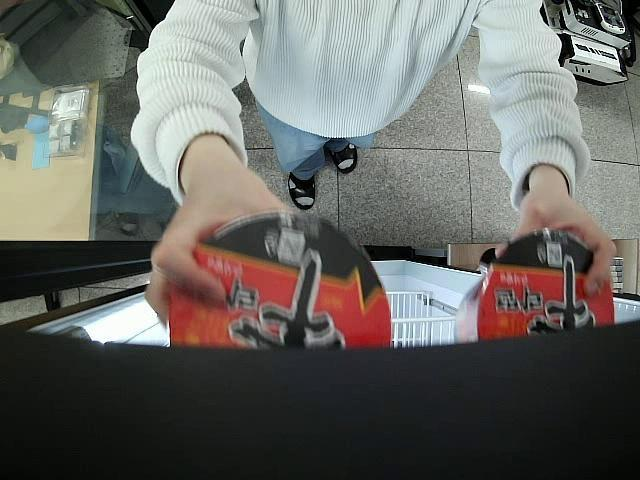01_ShinRamen_L: (164, 212, 390, 357), (454, 226, 615, 347)
